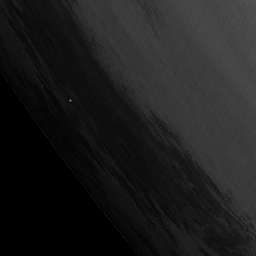Target: (67, 96, 73, 102)
